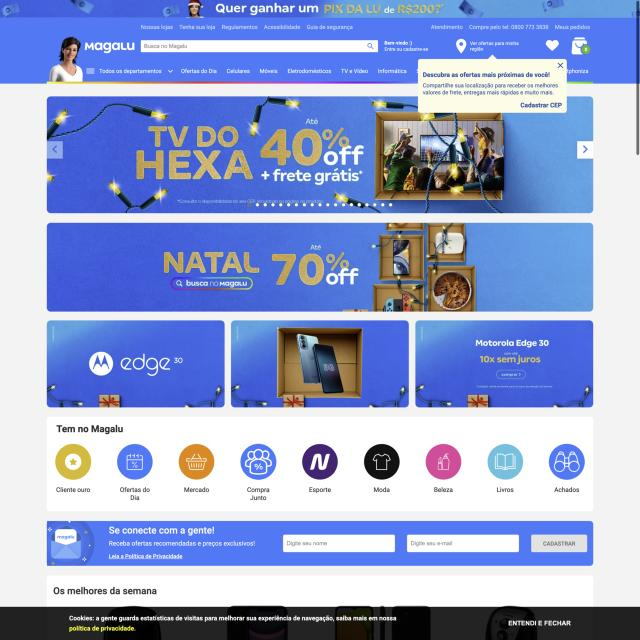input: (141, 39, 379, 53), (407, 533, 519, 554), (283, 534, 395, 553)
logo: (84, 40, 137, 53)
navigation: (139, 23, 595, 31), (98, 66, 408, 76)
